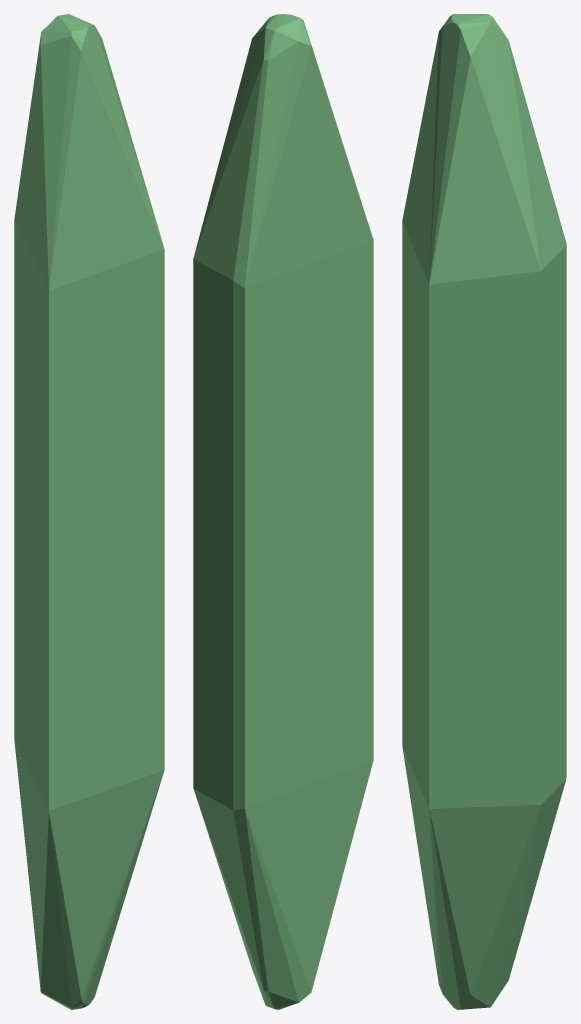
The model's file is kitchenware_rollingPin_e01.glb.
3 views of the same model, side by side, from view 1: azimuth 30°, elevation 25°; view 2: azimuth 150°, elevation 25°; view 3: azimuth 270°, elevation 25° (orthographic).
Visible parts, largest first — view 1: geometry_0; view 2: geometry_0; view 3: geometry_0.
Boxes of the visible parts, x1,y1,x2,y2 form: geometry_0: (14,14,164,1009); geometry_0: (193,14,373,1009); geometry_0: (402,14,566,1009).
Size of the model in its own units: 0.0659 by 0.4789 by 0.0722.
